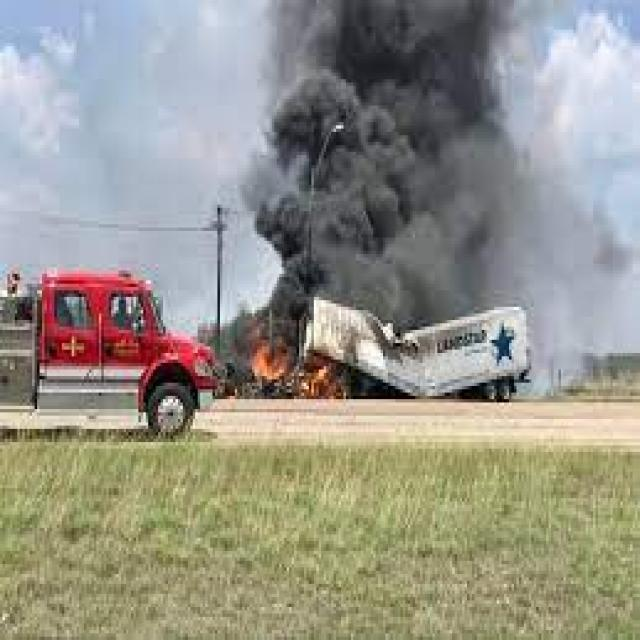fire: (247, 343, 349, 406)
smoke: (309, 4, 623, 324), (225, 3, 306, 340), (531, 162, 628, 392)
